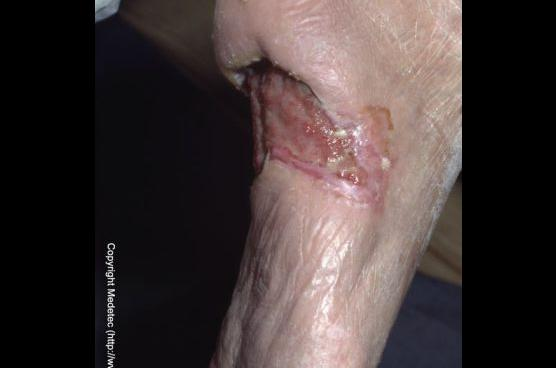NonPU: (222, 28, 406, 235)
